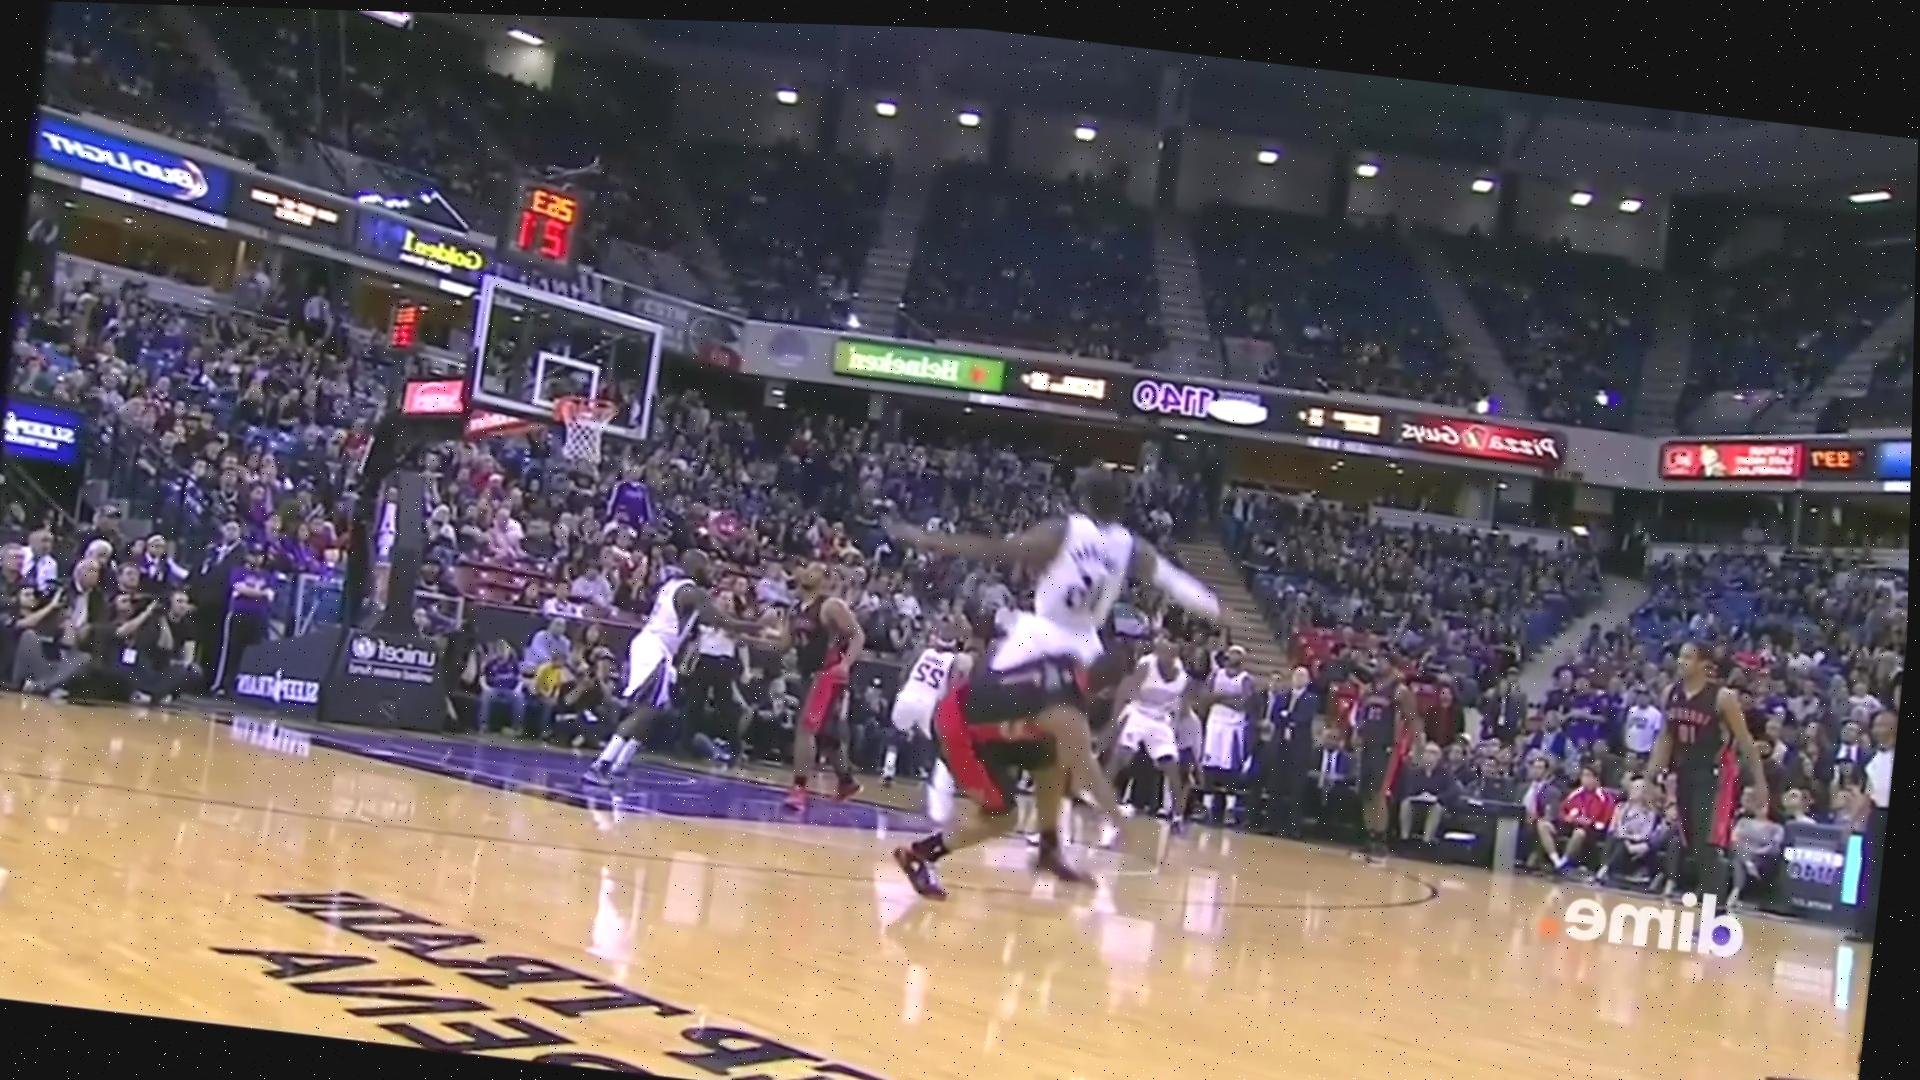foul: (831, 443, 1190, 903)
